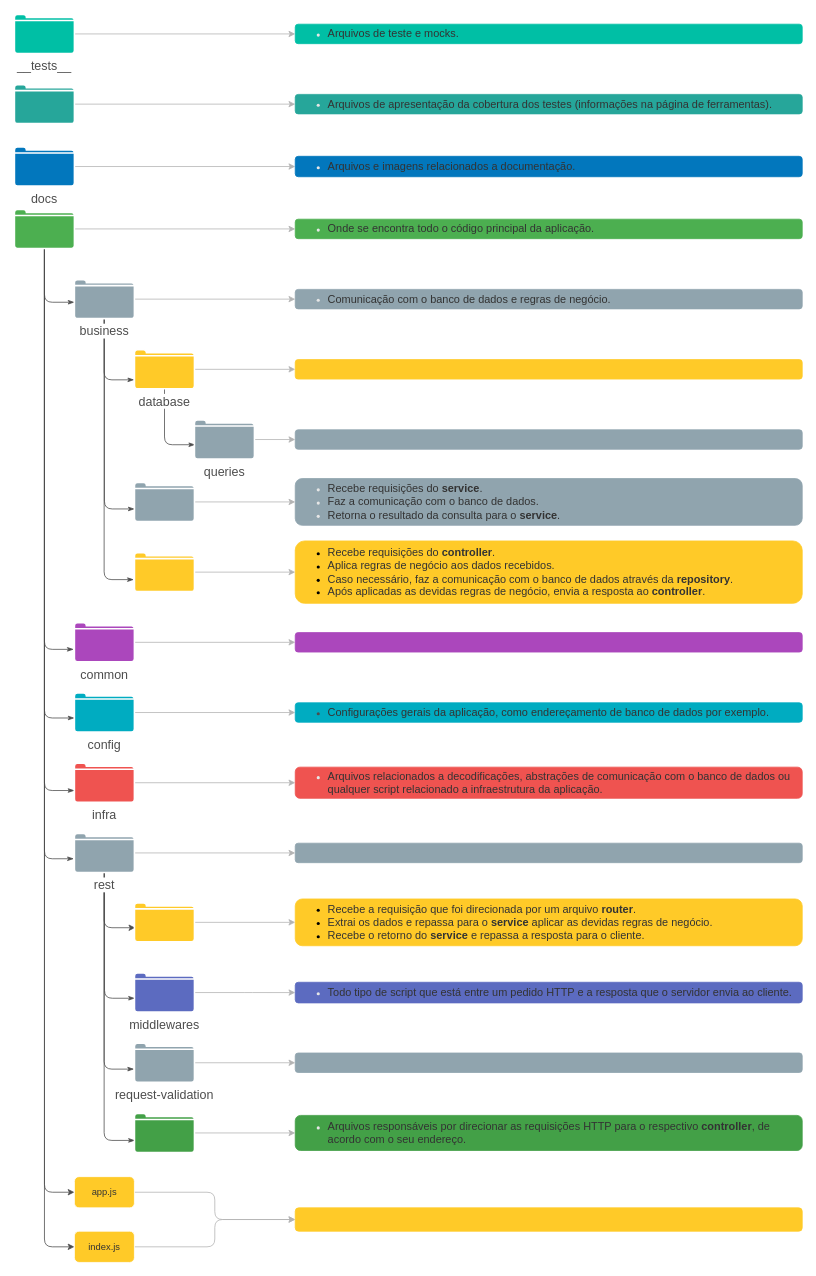
This 816x1276 diagram has some shape labels left out. Each missing label, with the centre of its shape:
Arquivos de configuração inicial do servidor: point 548,1219
Arquivos relacionados a comunicação com o banco de dados.: point 548,369
Arquivos responsáveis pela comunicação com o cliente.: point 548,852
controllers: point 164,922
coverage: point 44,103
repository: point 164,501
routes: point 164,1132
Scripts de comunicação com o banco de dados.: point 548,439
Scripts de utilização comum, com classificação mais genérica.: point 548,642
Scripts relacionados a validações de dados presentes nas requisições.: point 548,1062
services: point 164,571
src: point 44,228
